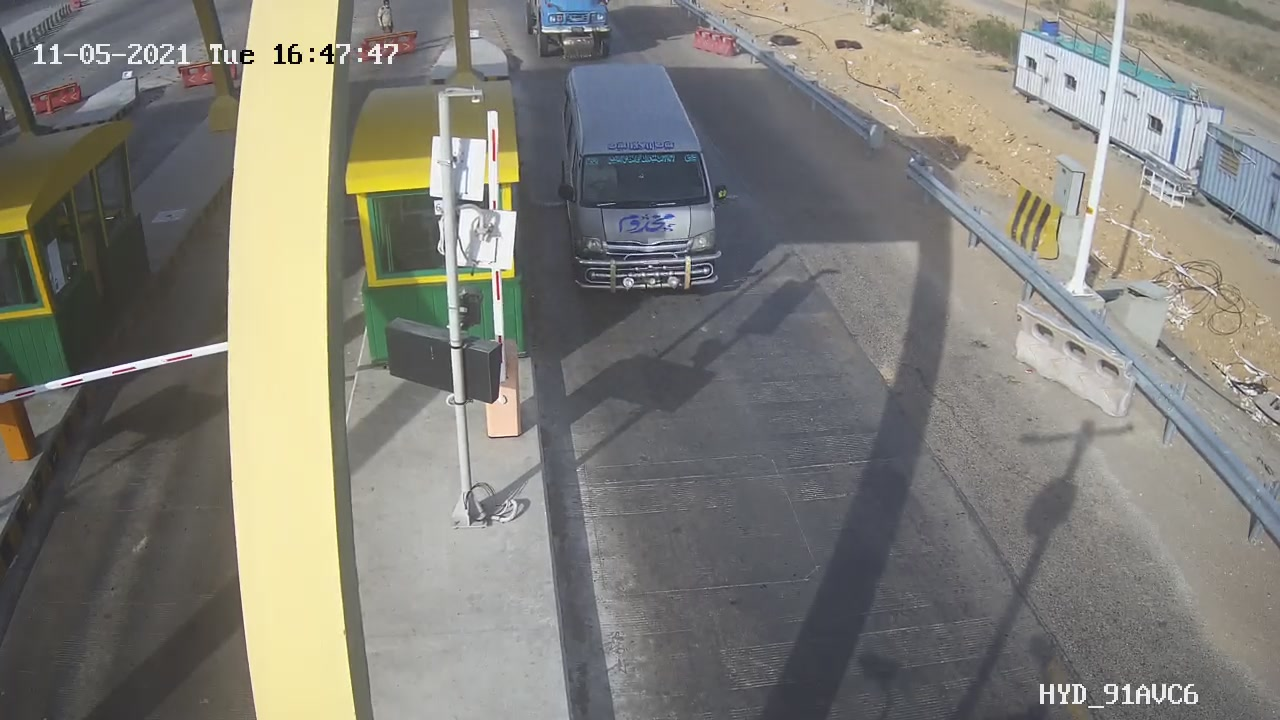F2: (543, 53, 747, 314)
